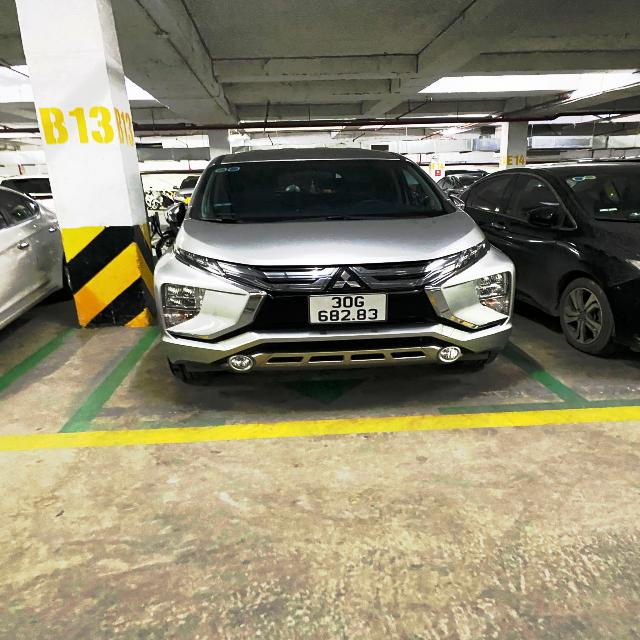license_plate: (305, 290, 392, 329)
